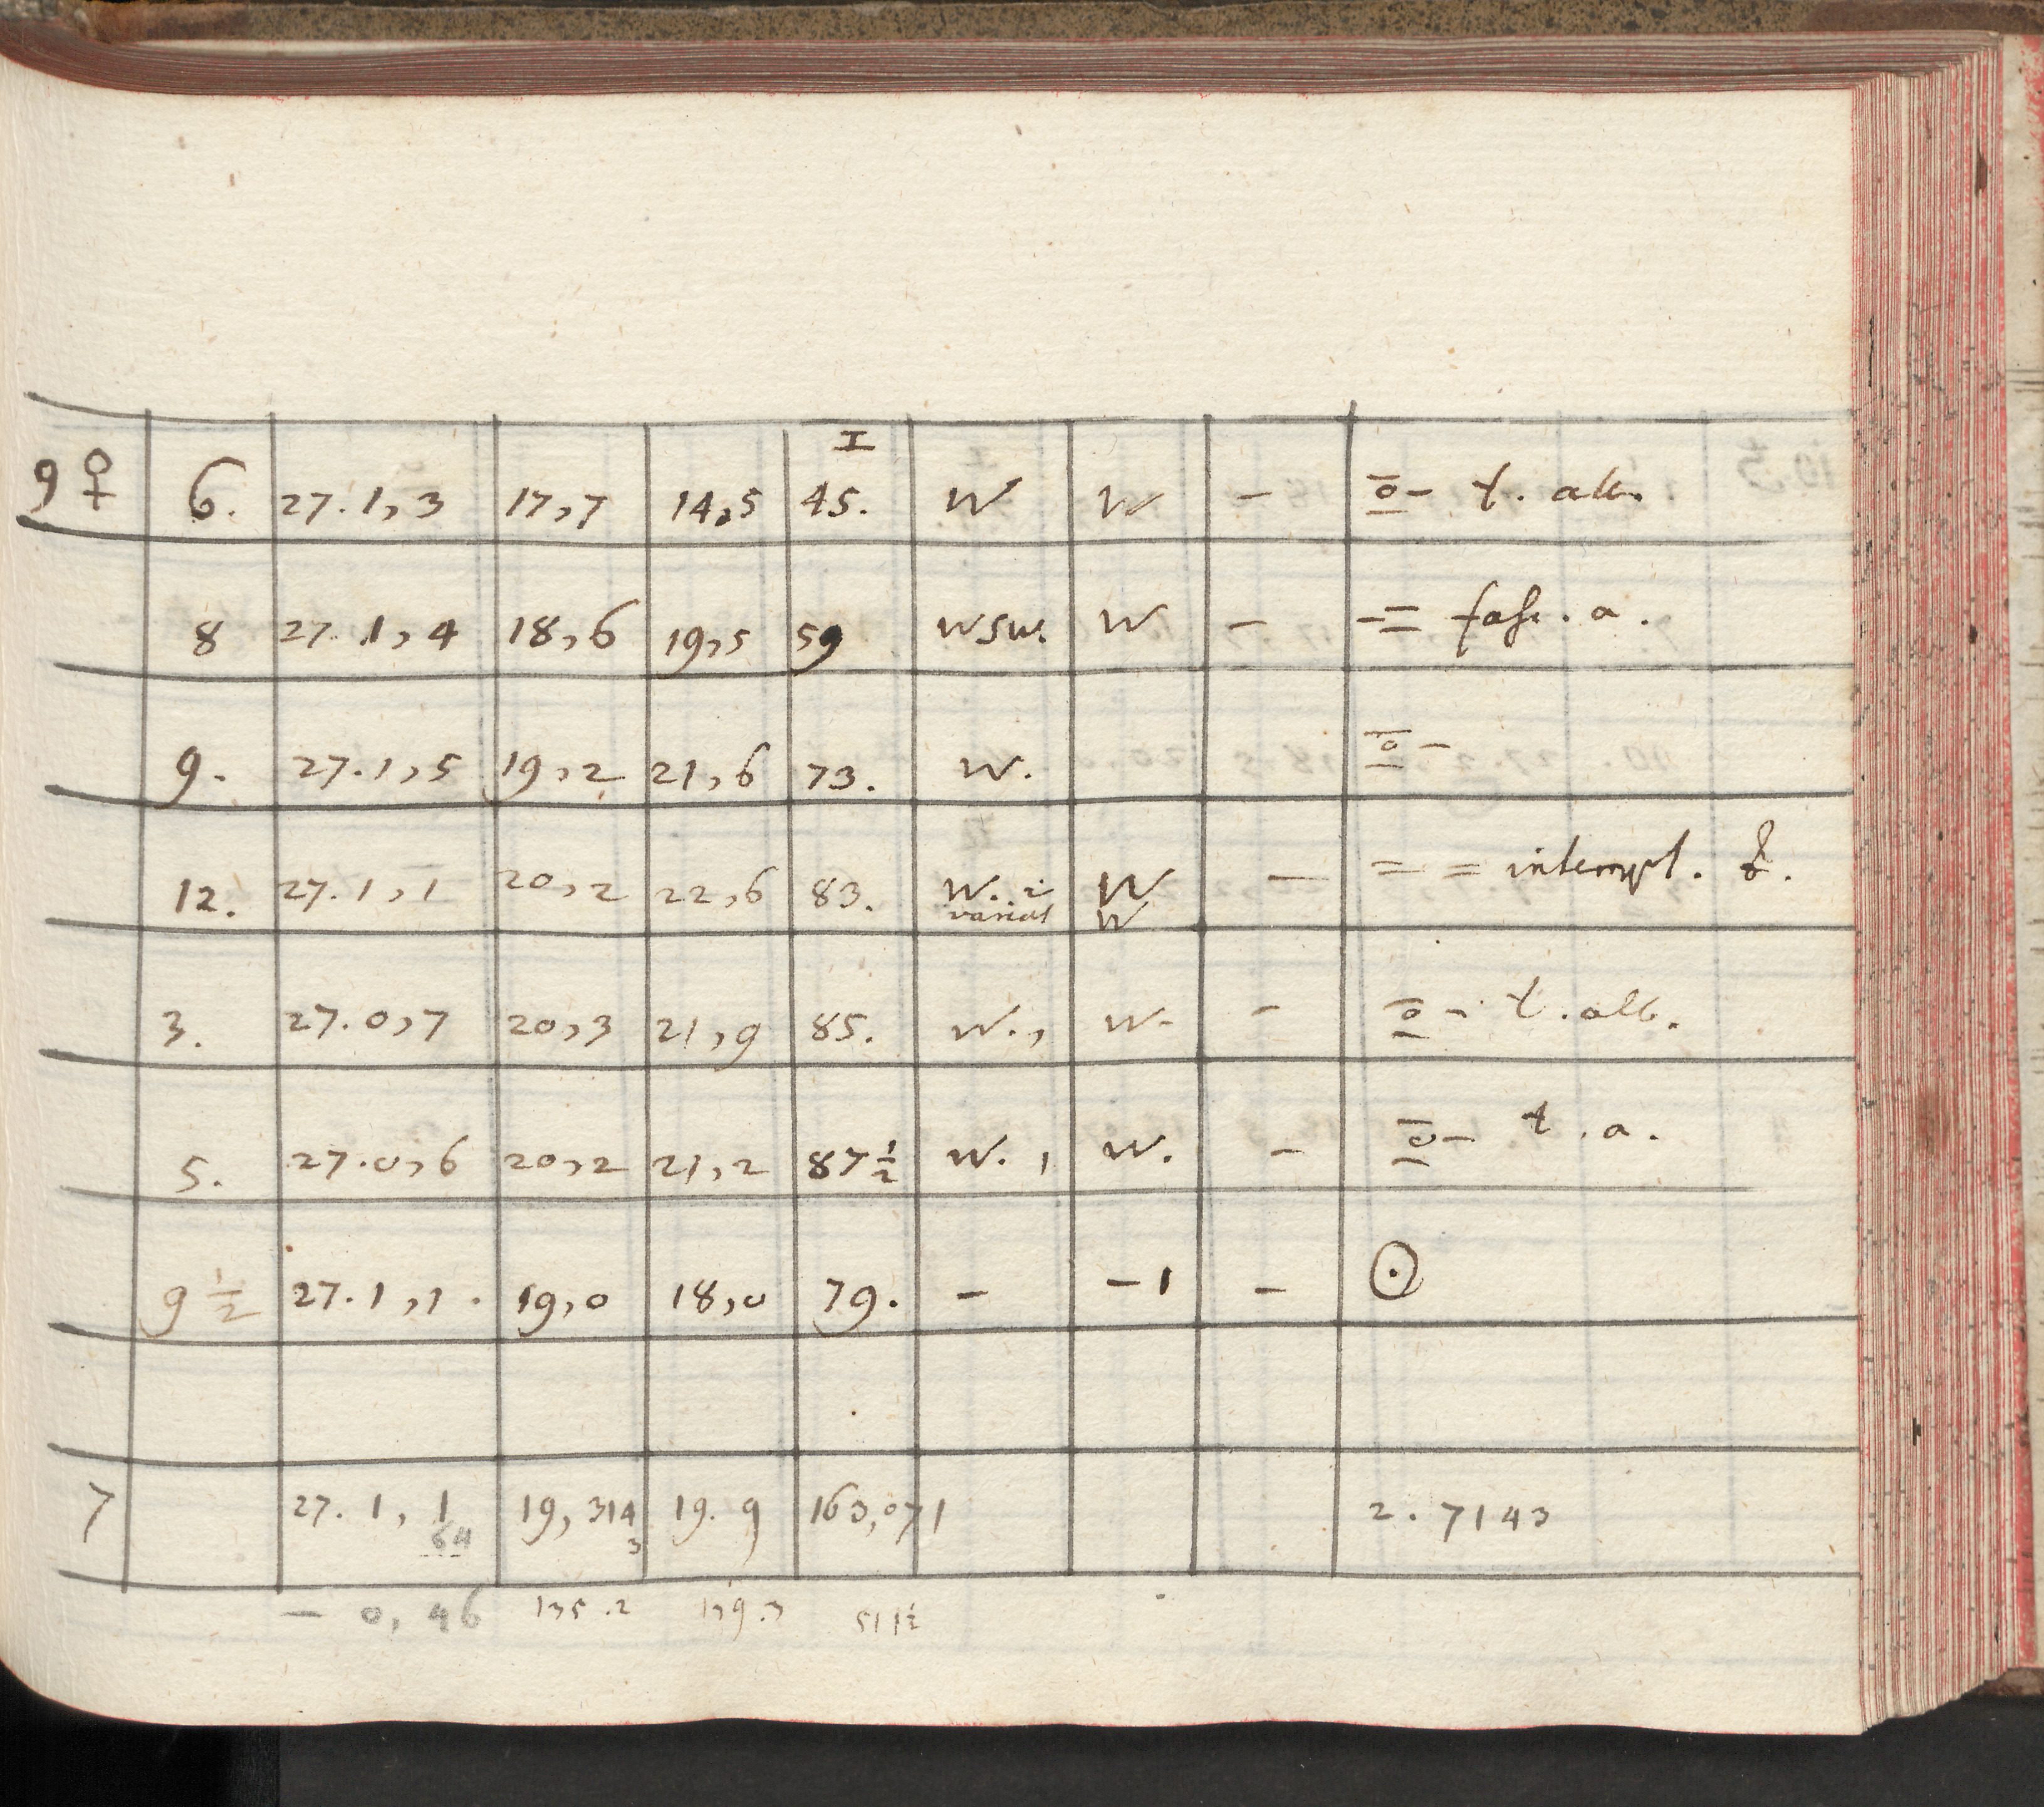bordered: (14, 403, 1861, 1584)
